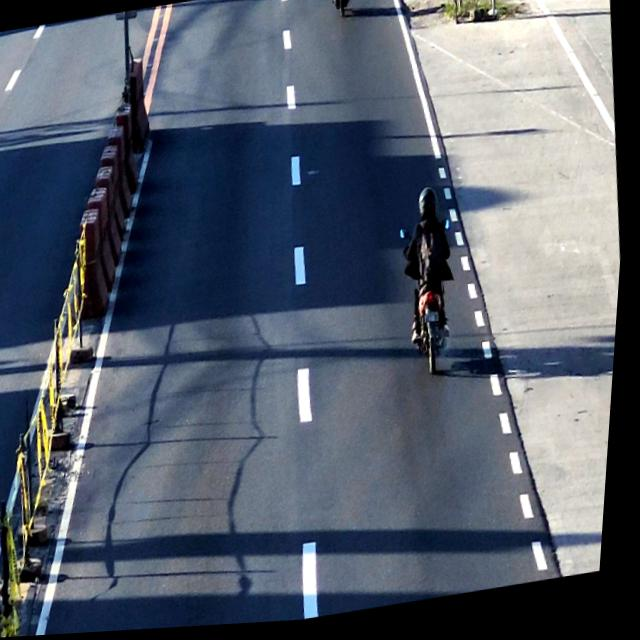Motorcycle: (399, 180, 468, 377)
